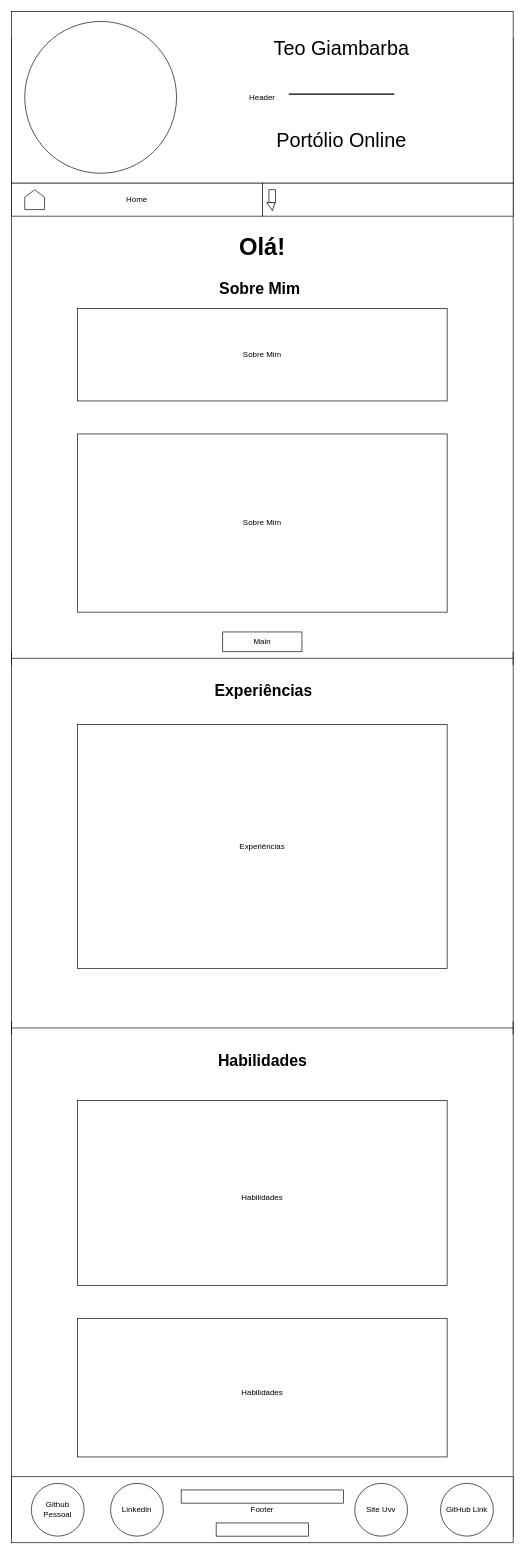
The diagram is 525 pixels wide and 1554 high, and some of its shapes have lost their labels. The centre of each missing label's shape, as x and y in pixels:
"Contatos" goes at point 262,1496.
"Foto" goes at point 100,97.
"Projetos" goes at point 387,199.
"Versão da Página" goes at point 262,1529.
